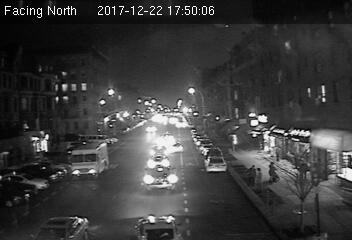car: (143, 166, 177, 192), (202, 155, 227, 173), (146, 155, 172, 168), (149, 145, 169, 156)
truck: (69, 142, 109, 179)
